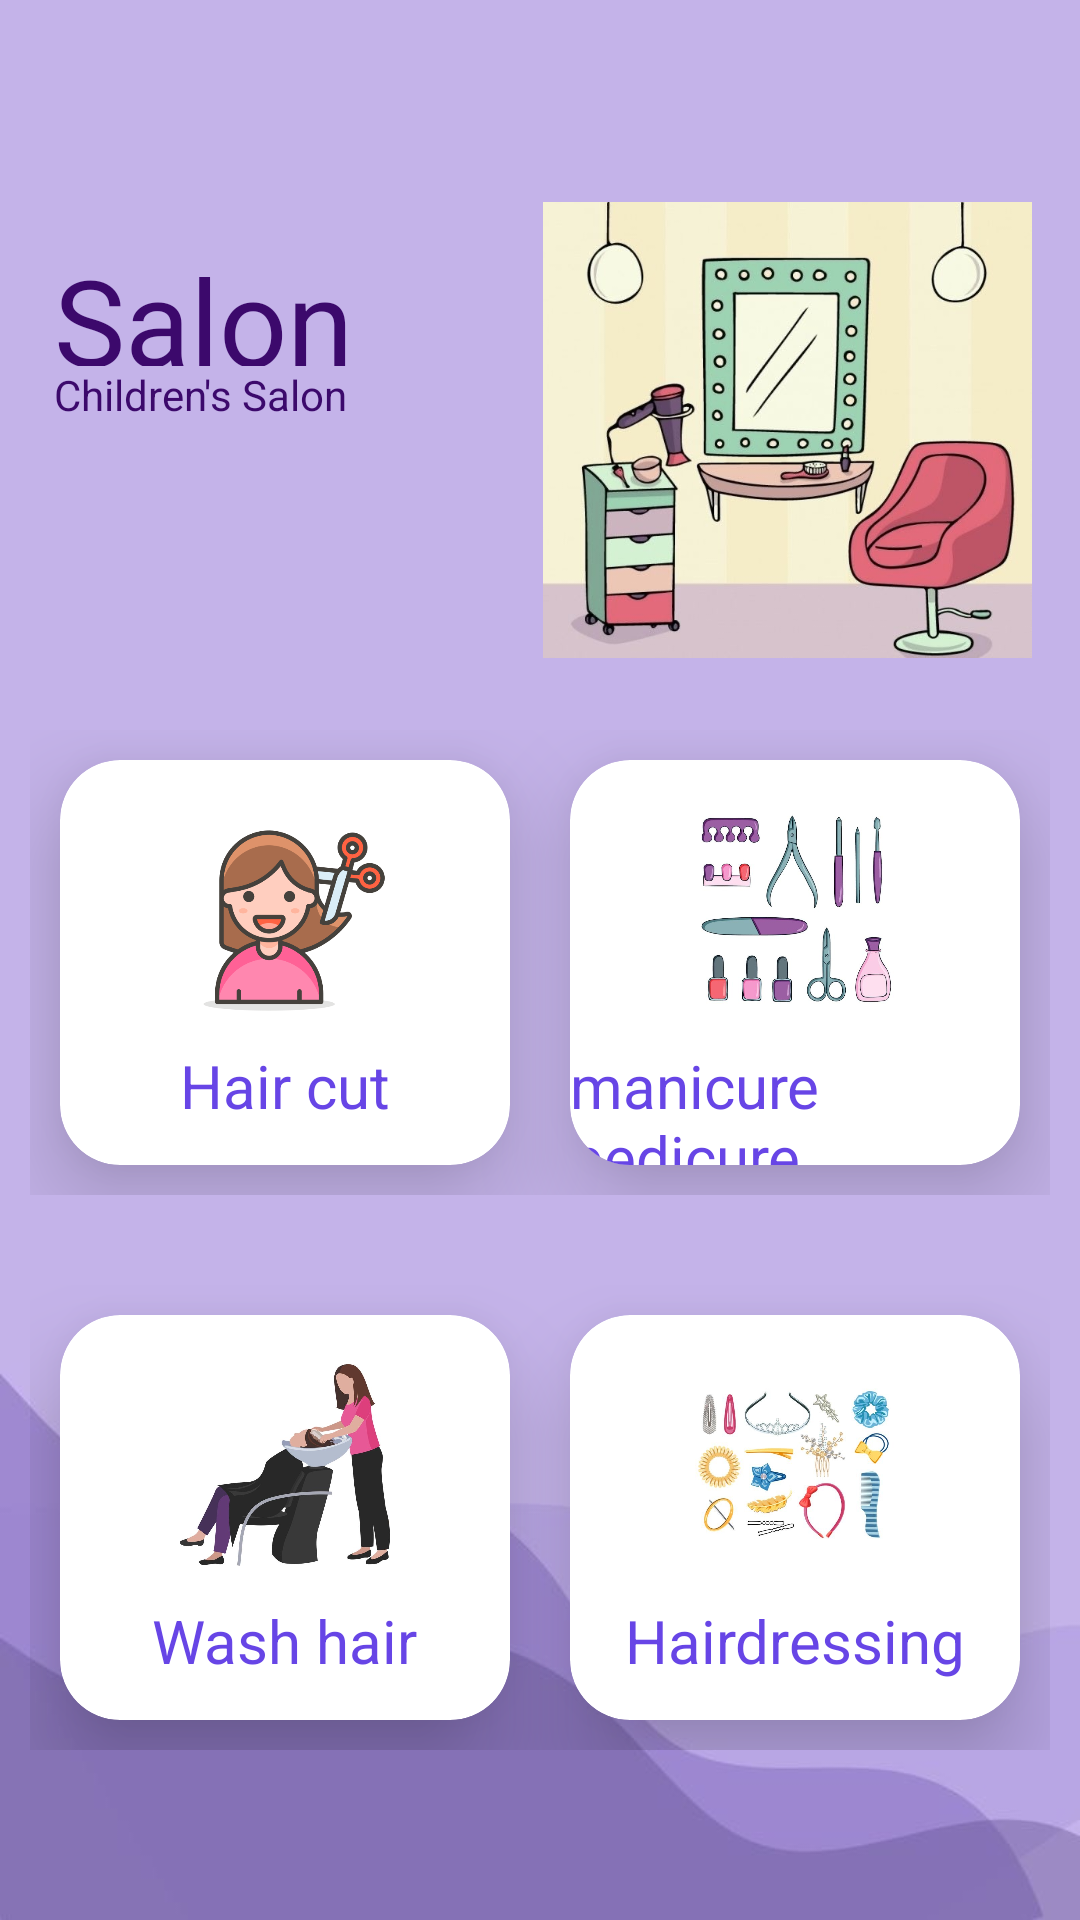

Icons on this 1080*1920 Android screen, each with its box as {"x1": x1, "y1": y1, "x2": x2, "y2": y2}:
hiarr: {"x1": 698, "y1": 1391, "x2": 889, "y2": 1538}
